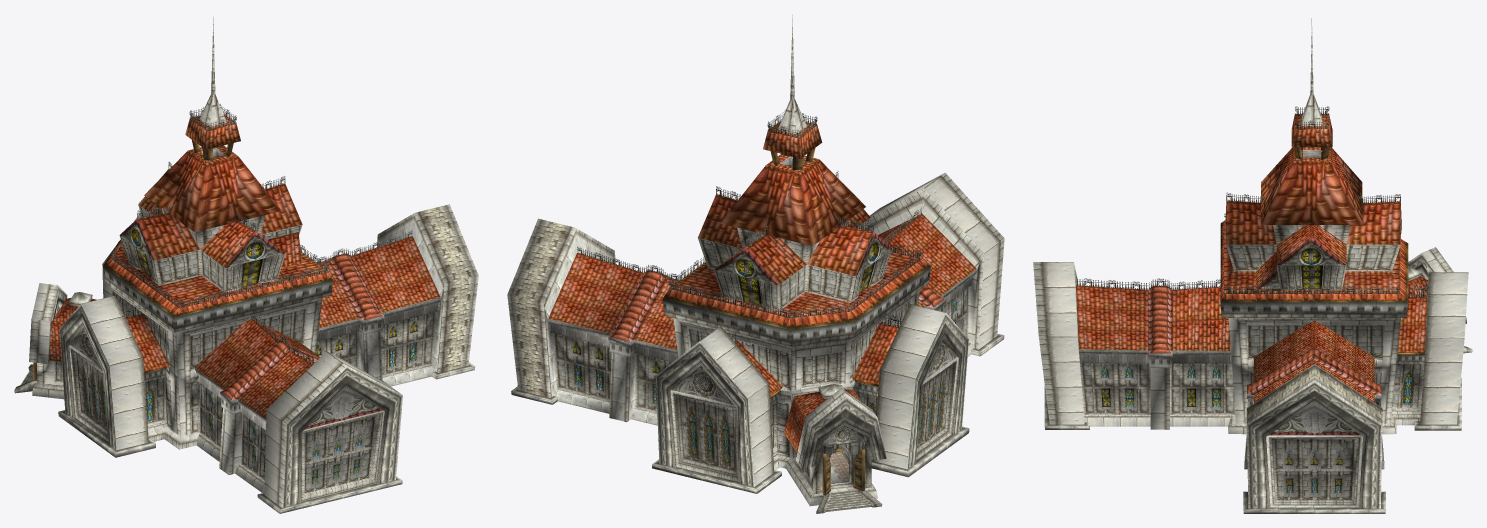
The model's file is NS_abby.obj.
3 views of the same model, side by side, from view 1: azimuth 30°, elevation 25°; view 2: azimuth 150°, elevation 25°; view 3: azimuth 270°, elevation 25° (orthographic). The views are drawn at different scales.
Visible parts, largest first — view 1: NSabbey_005.wmo, NSabbey_004.wmo, NSabbey_006.wmo; view 2: NSabbey_005.wmo, NSabbey_006.wmo, NSabbey_004.wmo, NSabbey_003.wmo; view 3: NSabbey_005.wmo, NSabbey_004.wmo, NSabbey_006.wmo.
Boxes of the visible parts, x1,y1,x2,y2 form: NSabbey_005.wmo: [14, 16, 332, 457]; NSabbey_004.wmo: [194, 314, 402, 513]; NSabbey_006.wmo: [315, 204, 478, 386]; NSabbey_005.wmo: [652, 14, 969, 513]; NSabbey_006.wmo: [507, 218, 683, 425]; NSabbey_004.wmo: [868, 172, 1004, 356]; NSabbey_003.wmo: [830, 446, 849, 484]; NSabbey_005.wmo: [1220, 18, 1472, 434]; NSabbey_004.wmo: [1033, 262, 1235, 429]; NSabbey_006.wmo: [1243, 320, 1385, 513].
Bounding box in the file's own units: 91.44 × 89.02 × 91.31.
61 materials, 60 textured.
